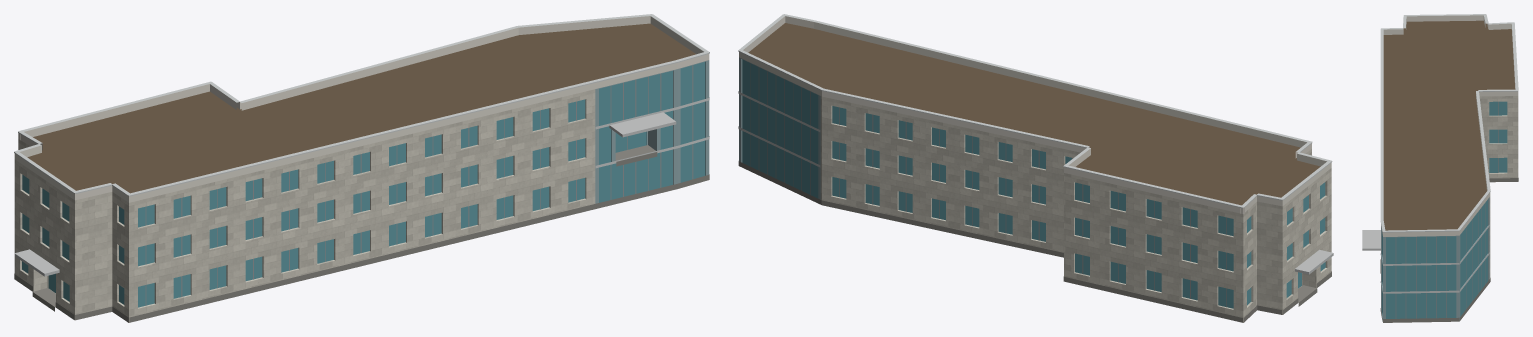
3 renders of one model, left to right at view 1: azimuth 30°, elevation 25°; view 2: azimuth 150°, elevation 25°; view 3: azimuth 270°, elevation 25°, orthographic. The views are drawn at different scales.
Visible parts, largest first — view 1: dahyang__wall, dahyang__roof, dahyang__glass, dahyang__parapet, dahyang__trim, dahyang__base, dahyang__wall2, dahyang__frame, dahyang__canopy; view 2: dahyang__wall, dahyang__roof, dahyang__glass, dahyang__parapet, dahyang__trim, dahyang__base, dahyang__frame, dahyang__wall2, dahyang__canopy; view 3: dahyang__roof, dahyang__glass, dahyang__trim, dahyang__wall, dahyang__parapet, dahyang__wall2, dahyang__frame, dahyang__base, dahyang__canopy.
Part boxes in pixels (bbox=[...]): dahyang__wall: bbox=[14, 89, 595, 322]; dahyang__roof: bbox=[27, 23, 695, 193]; dahyang__glass: bbox=[22, 62, 705, 307]; dahyang__parapet: bbox=[14, 16, 709, 202]; dahyang__trim: bbox=[14, 14, 709, 196]; dahyang__base: bbox=[14, 145, 709, 322]; dahyang__wall2: bbox=[595, 60, 709, 203]; dahyang__frame: bbox=[145, 65, 693, 305]; dahyang__canopy: bbox=[14, 112, 676, 276]; dahyang__wall: bbox=[820, 96, 1331, 322]; dahyang__roof: bbox=[748, 23, 1320, 322]; dahyang__glass: bbox=[742, 59, 1325, 308]; dahyang__parapet: bbox=[739, 16, 1331, 214]; dahyang__trim: bbox=[738, 14, 1332, 208]; dahyang__base: bbox=[738, 161, 1331, 322]; dahyang__frame: bbox=[750, 63, 1226, 307]; dahyang__wall2: bbox=[739, 57, 820, 199]; dahyang__canopy: bbox=[1295, 249, 1333, 274]; dahyang__roof: bbox=[1383, 20, 1515, 322]; dahyang__glass: bbox=[1382, 101, 1507, 318]; dahyang__trim: bbox=[1380, 14, 1518, 293]; dahyang__wall: bbox=[1479, 96, 1518, 278]; dahyang__parapet: bbox=[1381, 15, 1518, 236]; dahyang__wall2: bbox=[1381, 197, 1489, 321]; dahyang__frame: bbox=[1395, 101, 1498, 318]; dahyang__base: bbox=[1380, 178, 1518, 322]; dahyang__canopy: bbox=[1362, 230, 1380, 250].
Size of the model in its own units: 61.84 by 12.2 by 18.34.
Materials: 10 (1 with a texture image).
